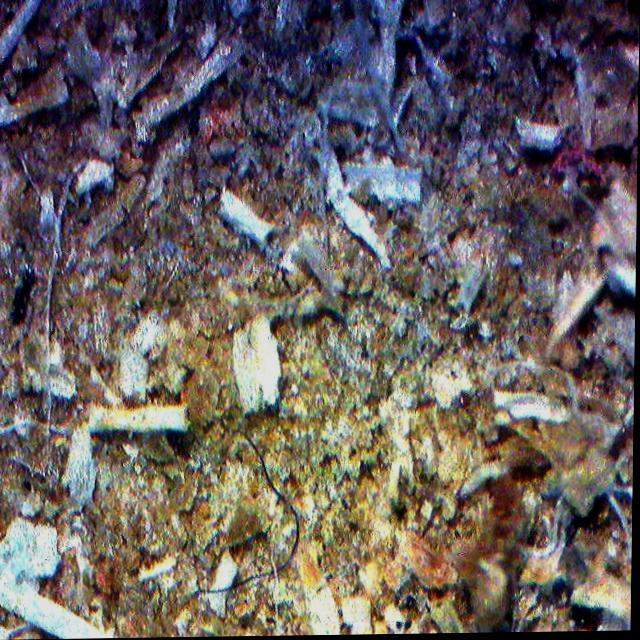microplastic: (197, 435, 301, 596)
